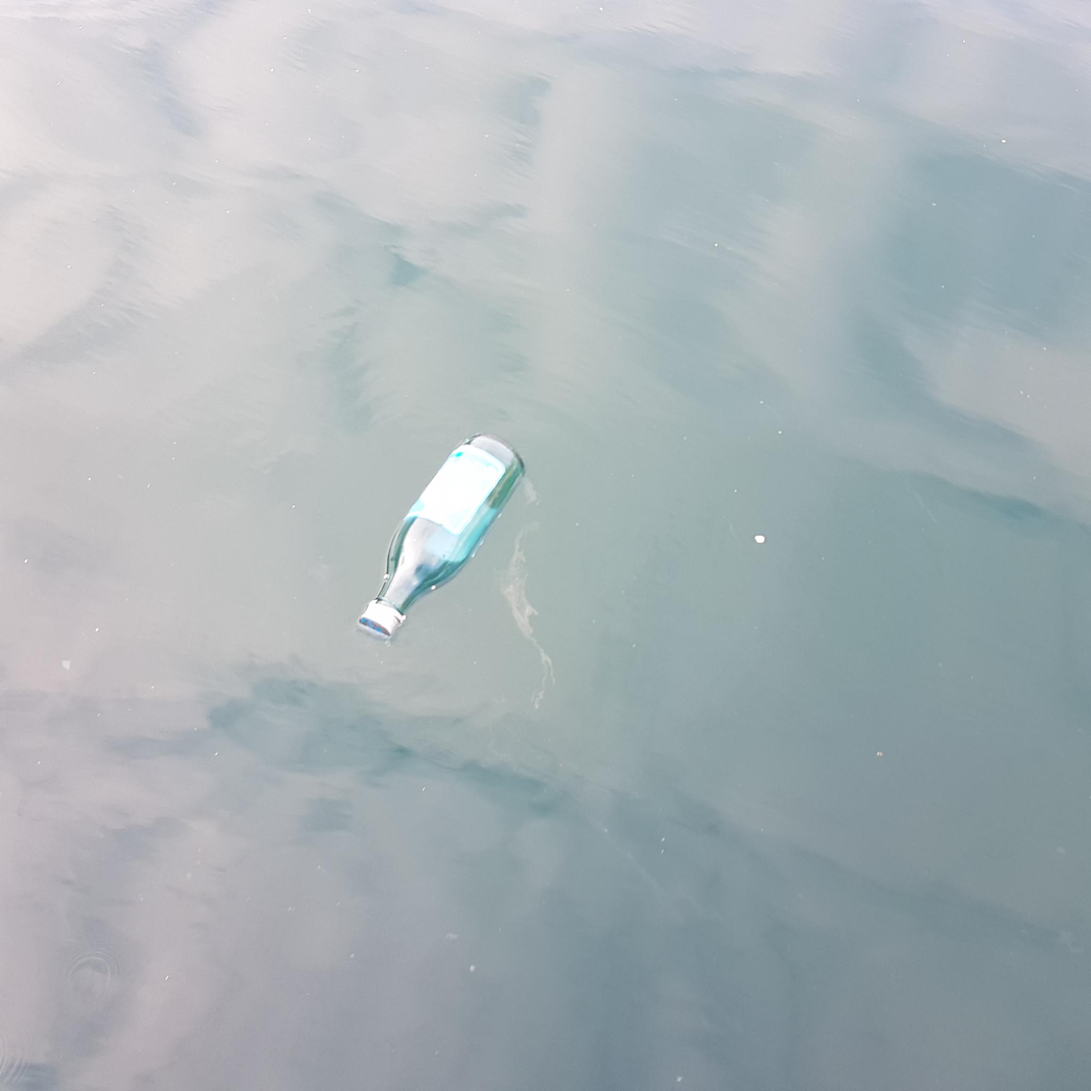sampah_terapung: (359, 434, 525, 638)
